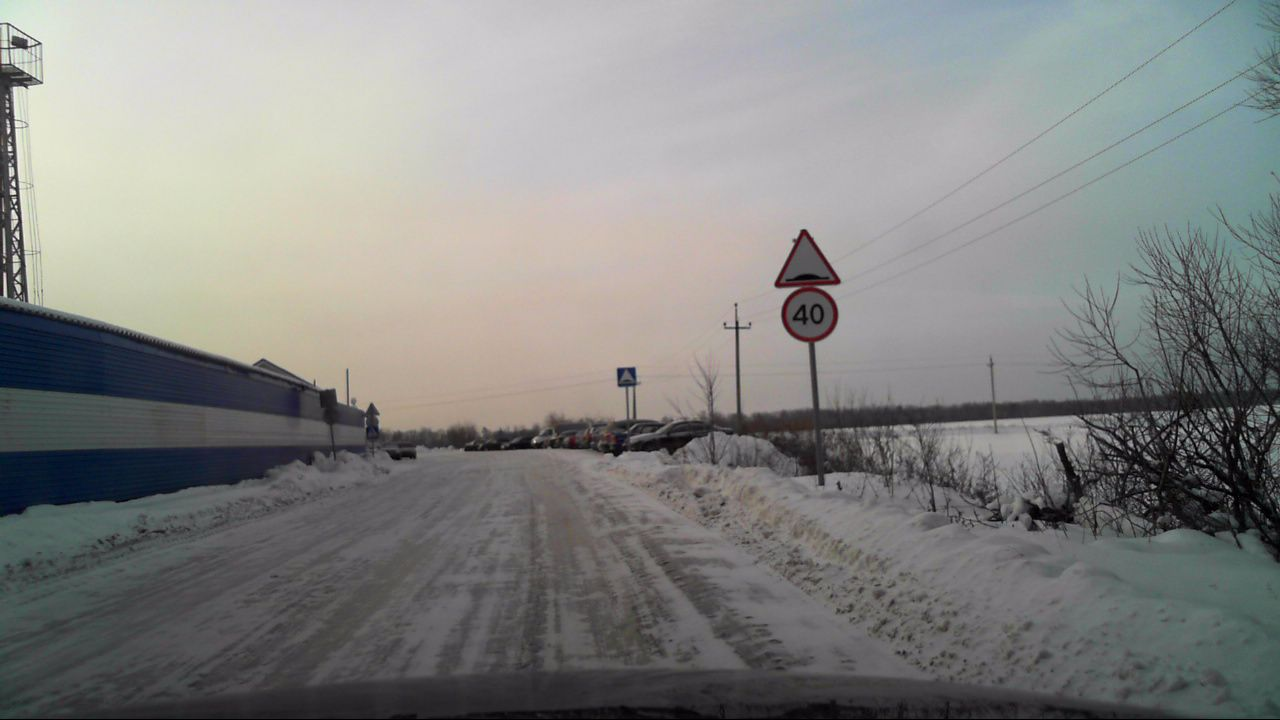speed_warning_40: (781, 288, 838, 343)
